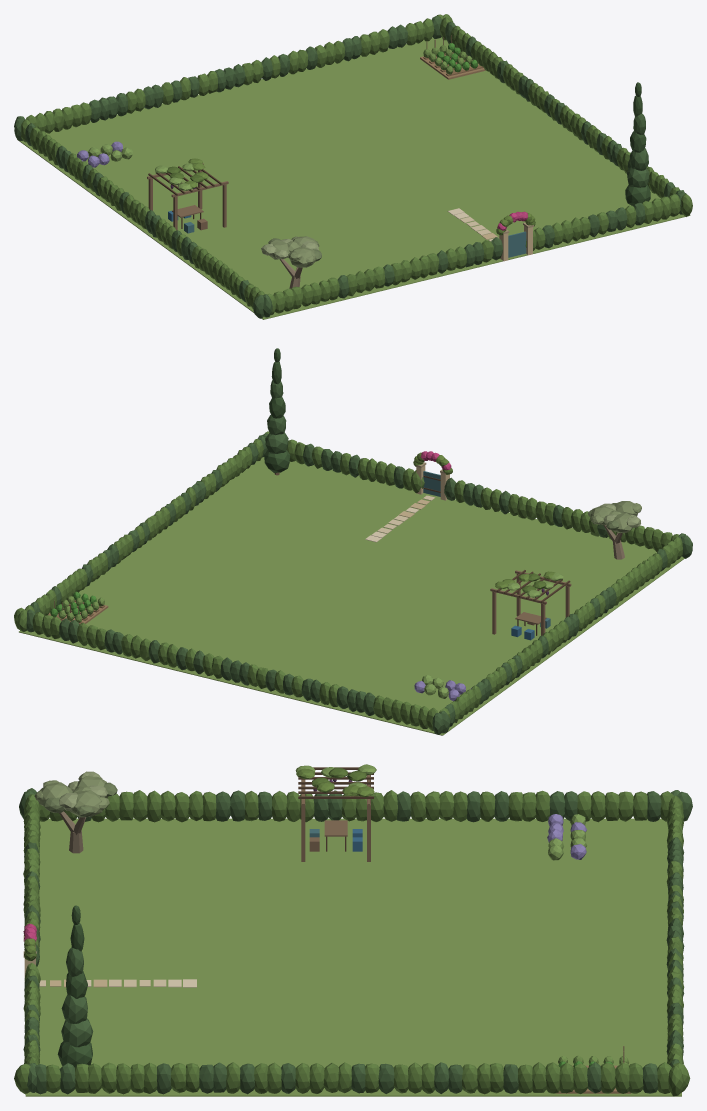
The model's file is bahce-arsasi-kose.glb.
3 views of the same model, one above another, from view 1: azimuth 30°, elevation 25°; view 2: azimuth 150°, elevation 25°; view 3: azimuth 270°, elevation 25° (orthographic). The views are drawn at different scales.
Parts seen in each view (by area): view 1: cim, yaprak2, servi2, cit, ahsap, servi, zeytin1, yaprak3, yaprak1, kepenk, tas2, asma; view 2: cim, servi2, yaprak2, cit, ahsap, servi, zeytin1, yaprak3; view 3: cim, yaprak2, servi2, cit, servi, zeytin1, ahsap, yaprak3, ahsap_koyu, asma, lavanta, zeytin2 (+3 smaller).
Part boxes in pixels (x1,y1,x2,y2): cim: [17, 37, 690, 319]; yaprak2: [21, 14, 680, 315]; servi2: [14, 15, 686, 318]; cit: [26, 14, 692, 311]; ahsap: [147, 35, 451, 230]; servi: [625, 82, 650, 206]; zeytin1: [268, 236, 317, 267]; yaprak3: [71, 144, 194, 190]; yaprak1: [423, 45, 472, 74]; kepenk: [184, 222, 526, 257]; tas2: [482, 225, 532, 261]; asma: [185, 158, 535, 227]; cim: [19, 457, 684, 735]; servi2: [26, 380, 692, 734]; yaprak2: [14, 442, 682, 726]; cit: [17, 431, 662, 730]; ahsap: [54, 570, 571, 635]; servi: [264, 348, 290, 472]; zeytin1: [590, 501, 641, 532]; yaprak3: [422, 573, 563, 698]; cim: [25, 818, 681, 1096]; yaprak2: [23, 790, 684, 1096]; servi2: [19, 788, 692, 1094]; cit: [14, 790, 690, 1094]; servi: [57, 905, 92, 1067]; zeytin1: [34, 776, 109, 817]; ahsap: [301, 775, 624, 1063]; yaprak3: [295, 764, 586, 860]; ahsap_koyu: [298, 767, 373, 851]; asma: [24, 768, 374, 954]; lavanta: [547, 814, 586, 859]; zeytin2: [59, 771, 107, 810].
Bounding box in the file's own units: 26.88 × 7.48 × 26.91.
